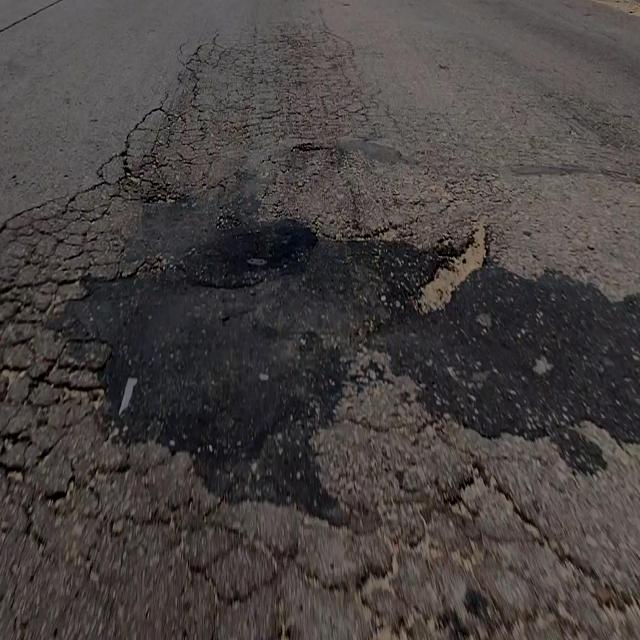Potholes: (415, 209, 493, 315)
